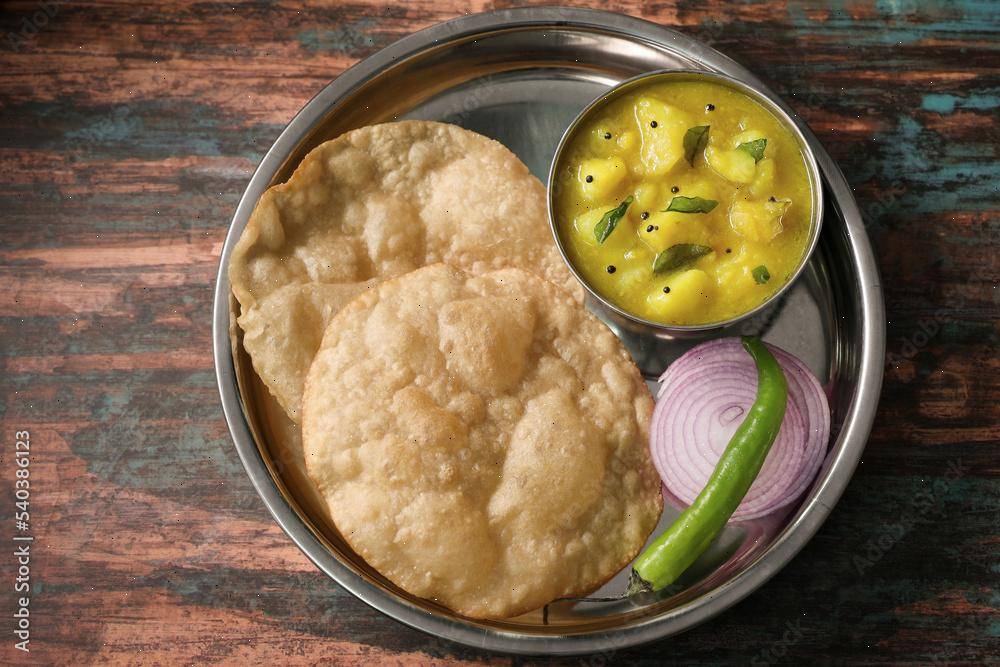puri: (253, 152, 573, 605)
